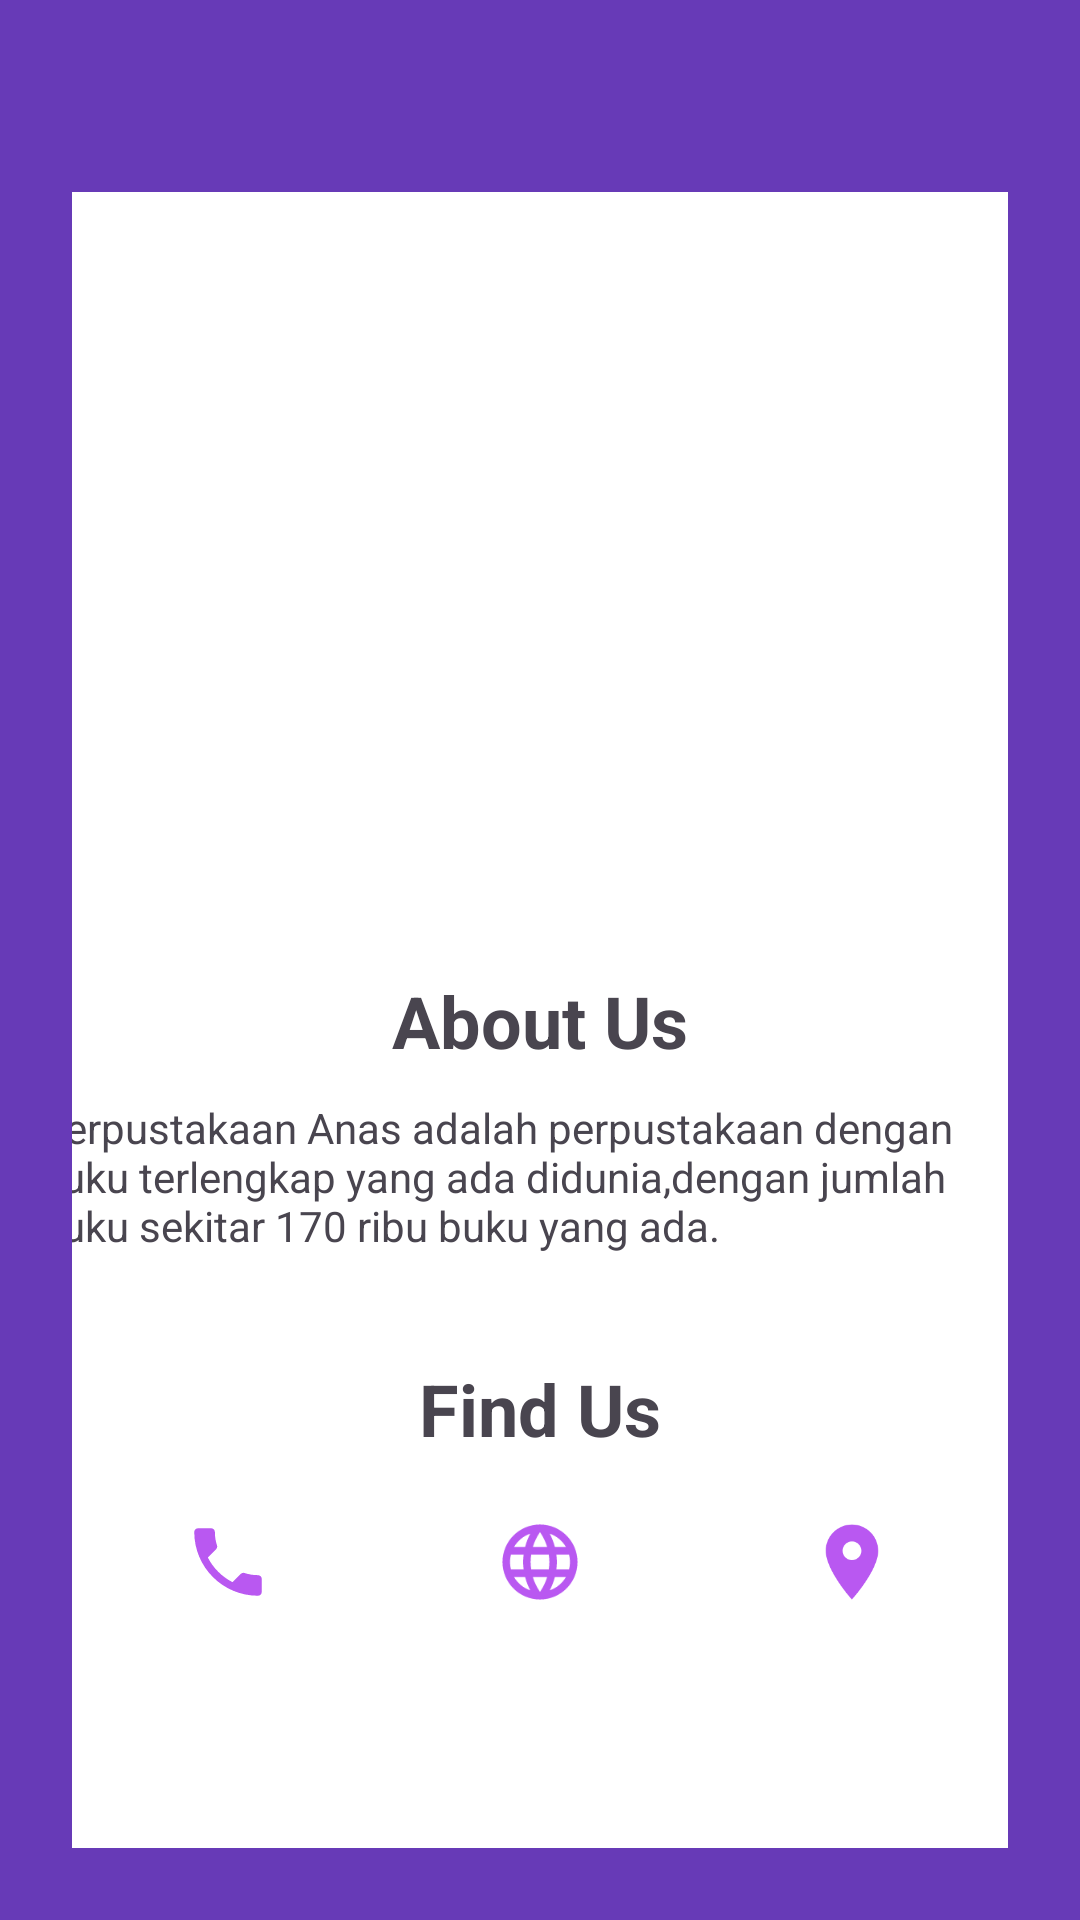

Icons on this 1080 x 1920 Android screen, each with its box as (x1, y1, x2, y2):
language: (502, 1524, 578, 1600)
location on: (825, 1524, 879, 1600)
phone: (194, 1528, 262, 1596)
